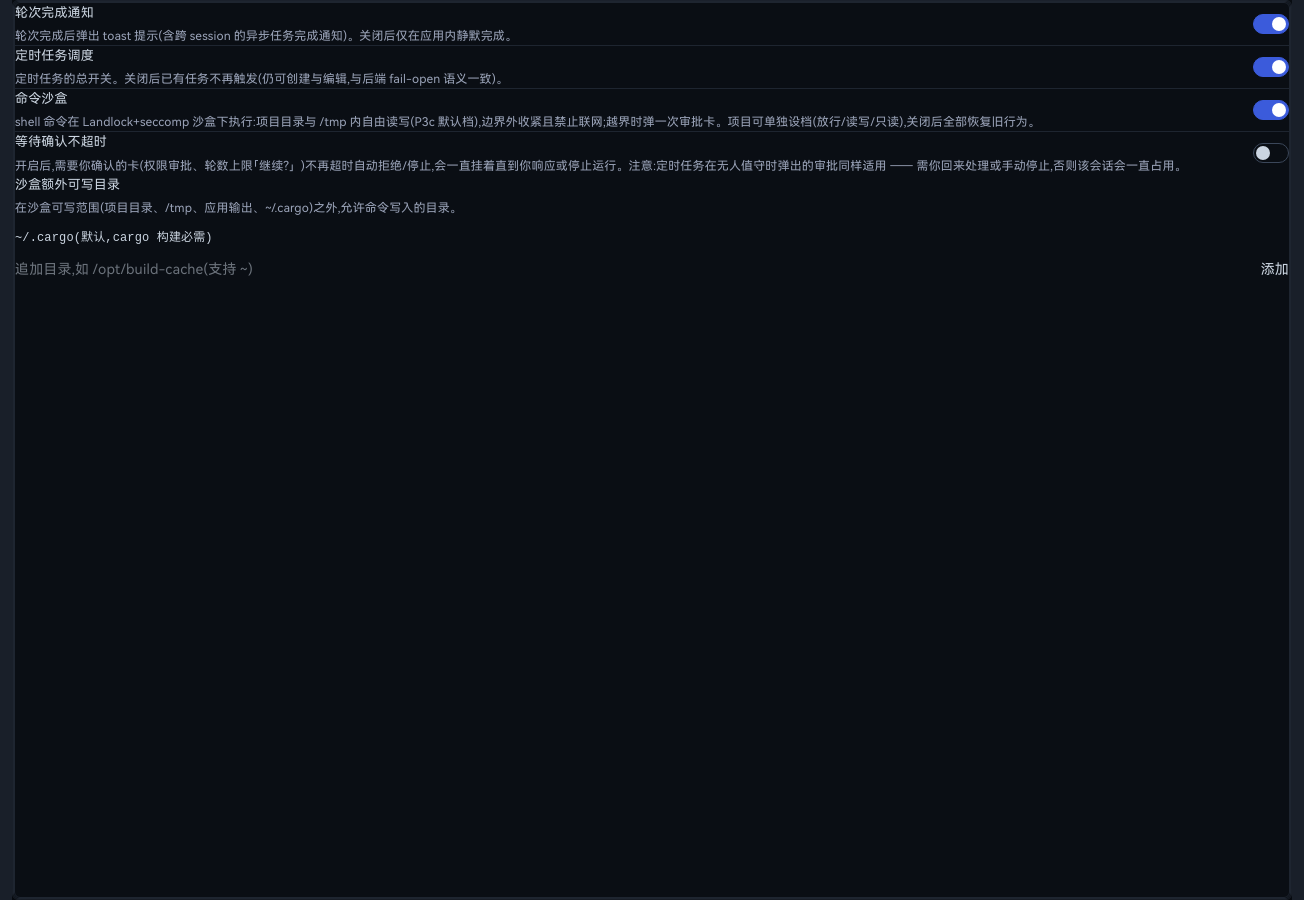
Test case: GeneralTab — P3b sandbox › 额外可写目录(RULE-SBX-002):编辑 raw 清单;~/.cargo 默认项为固定 chip 不可删
Expected: the number of list items with class "general-tab__extra-item" is 1, top-left (15, 231), bottom-right (213, 245)
Expected: the list item with class "general-tab__extra-item" shows "~/.cargo", top-left (15, 231), bottom-right (213, 245)
Type "/opt/build-cache" into the field with class "general-tab__extra-input".
click(634, 270); type("/opt/build-cache")  # box top-left (15, 259), bottom-right (1253, 281)
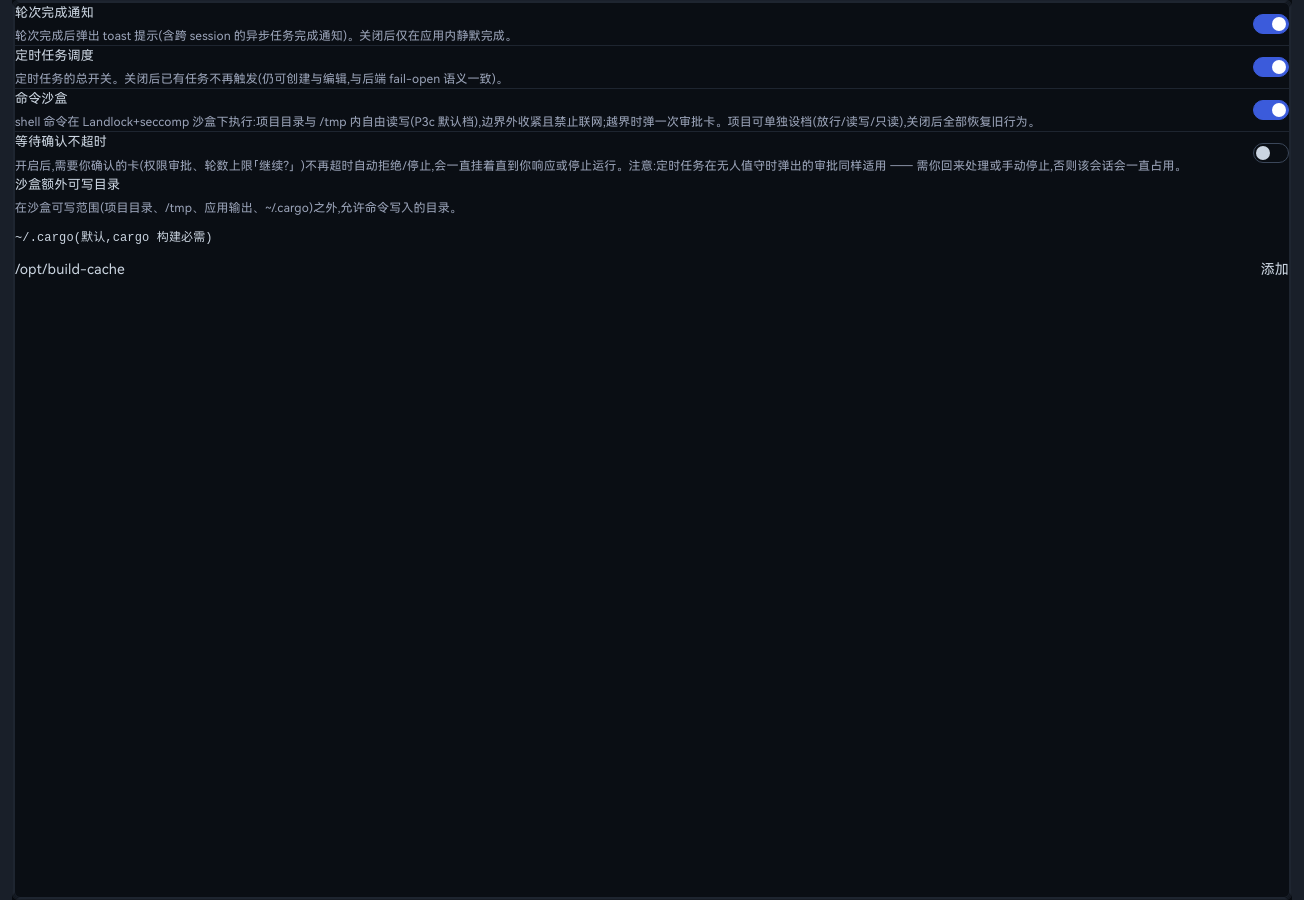
Click the button with class "general-tab__extra-addbtn".
click(1275, 270)  # box top-left (1261, 259), bottom-right (1289, 281)
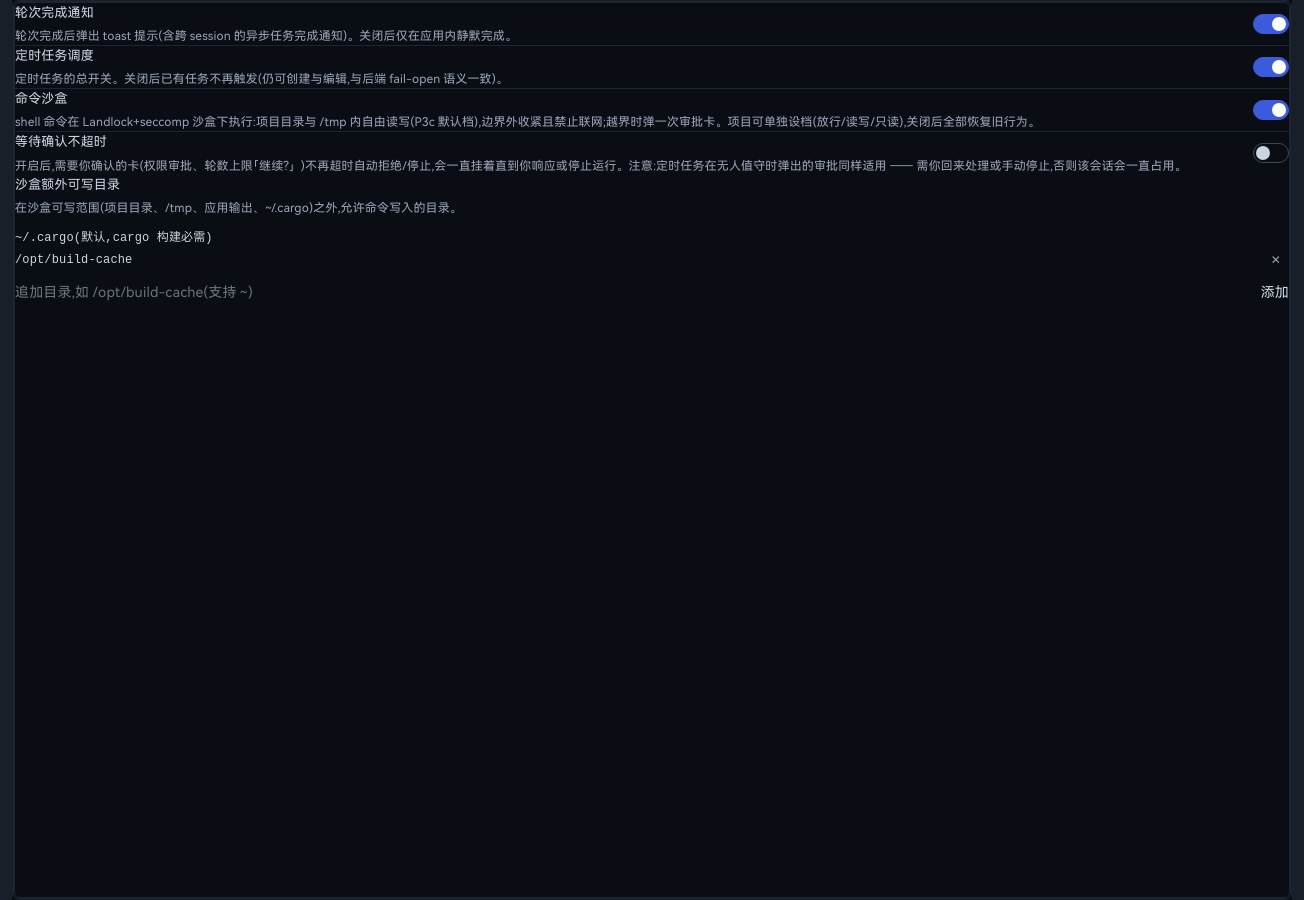
Click the button with class "general-tab__extra-remove".
click(1276, 261)  # box top-left (1263, 251), bottom-right (1289, 270)
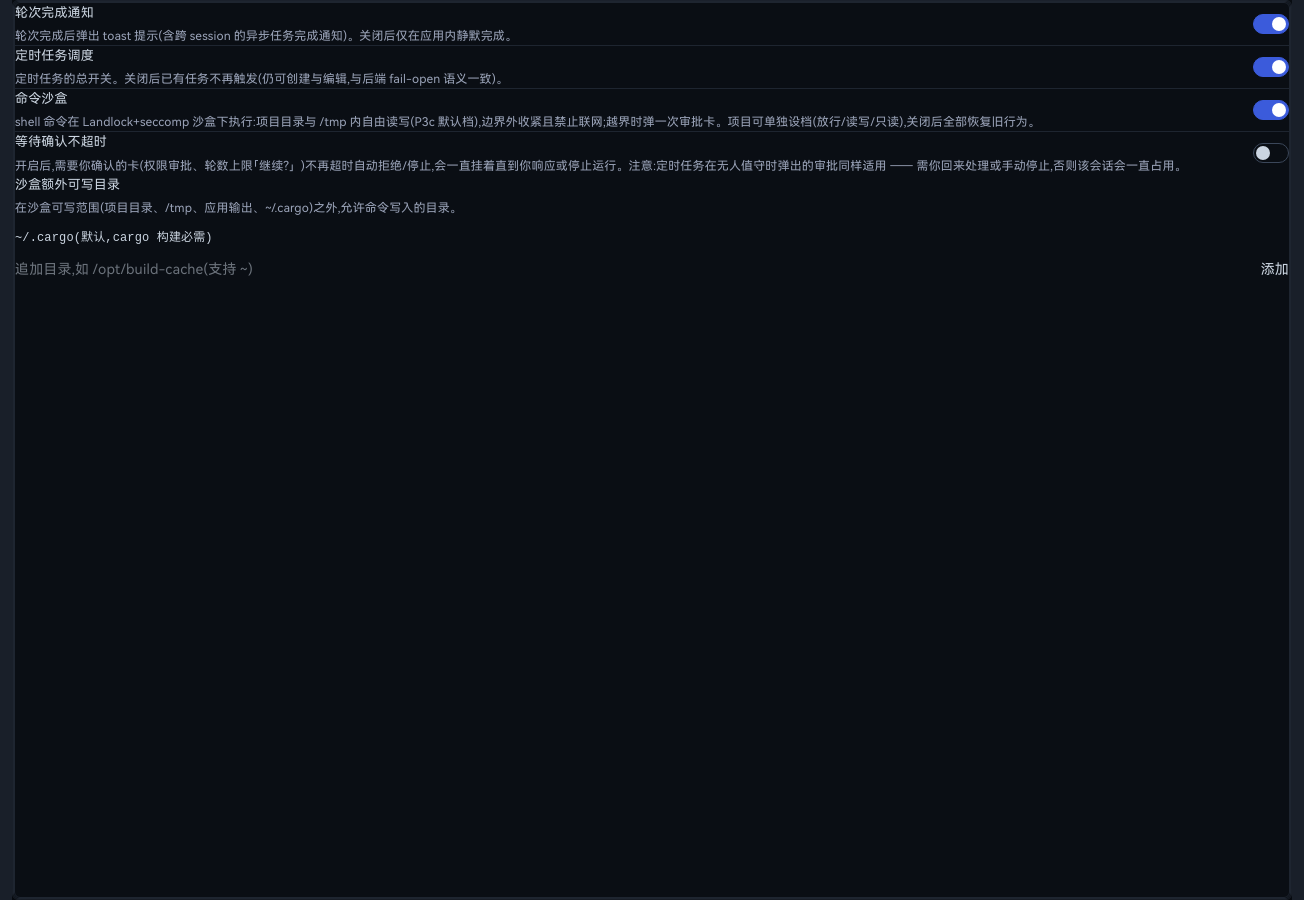
Expected: the list item with class "general-tab__extra-item" shows "~/.cargo", top-left (15, 231), bottom-right (213, 245)
Now the number of list items with class "general-tab__extra-item" is 1, box top-left (15, 231), bottom-right (213, 245)
